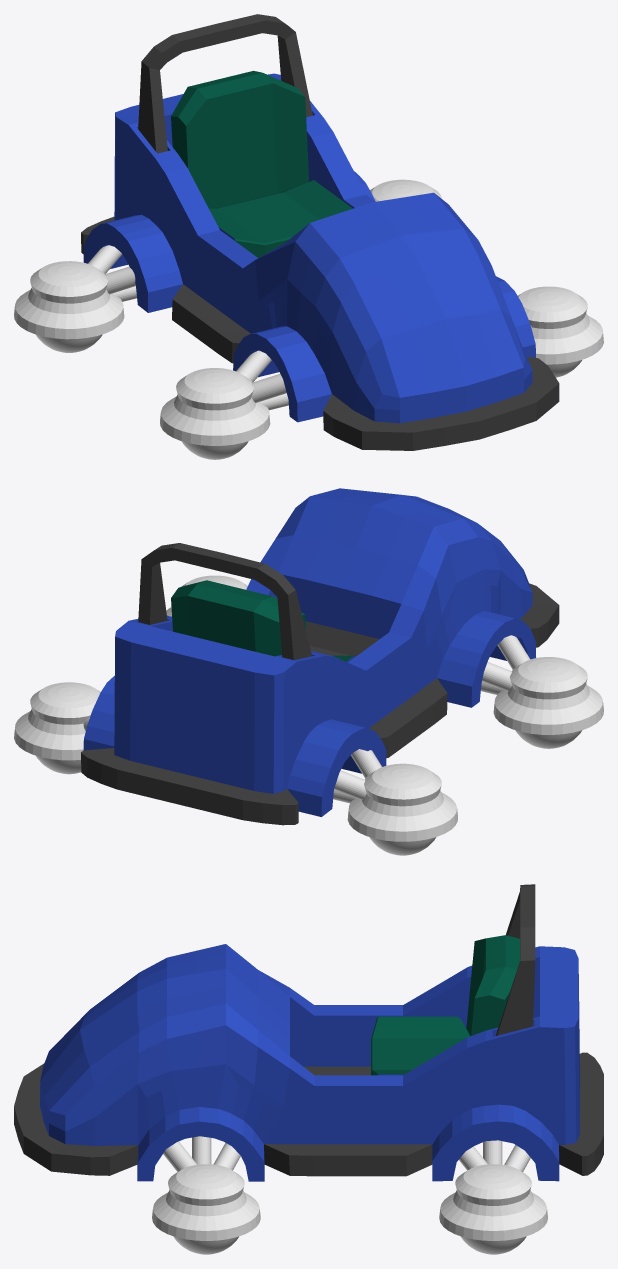
File: car.glb
3 views of the same model, one above another, from view 1: azimuth 30°, elevation 25°; view 2: azimuth 150°, elevation 25°; view 3: azimuth 270°, elevation 25° (orthographic).
Visible parts, largest first — view 1: Cube, Sphere.002, Sphere.006, Sphere.005, Sphere.001, Cylinder.007, Cylinder.008, Cylinder.010; view 2: Cube, Sphere.006, Sphere.002, Sphere.001, Cylinder.007, Cylinder.011, Cylinder.008, Cylinder.010; view 3: Cube, Sphere.001, Sphere.005, Cylinder.001, Cylinder.
Boxes of the visible parts, left/top/right/bottom form: Cube: left=81, top=14, right=559, bottom=450; Sphere.002: left=14, top=261, right=124, bottom=352; Sphere.006: left=160, top=368, right=270, bottom=459; Sphere.005: left=518, top=286, right=603, bottom=377; Sphere.001: left=370, top=179, right=441, bottom=201; Cylinder.007: left=251, top=374, right=286, bottom=402; Cylinder.008: left=236, top=350, right=271, bottom=382; Cylinder.010: left=104, top=266, right=135, bottom=294; Cube: left=81, top=488, right=559, bottom=825; Sphere.006: left=493, top=657, right=603, bottom=748; Sphere.002: left=347, top=763, right=457, bottom=855; Sphere.001: left=14, top=682, right=100, bottom=774; Cylinder.007: left=497, top=635, right=530, bottom=669; Cylinder.011: left=334, top=770, right=366, bottom=800; Cylinder.008: left=482, top=662, right=511, bottom=691; Cylinder.010: left=351, top=749, right=381, bottom=778; Cube: left=14, top=884, right=603, bottom=1181; Sphere.001: left=439, top=1164, right=547, bottom=1254; Sphere.005: left=152, top=1164, right=260, bottom=1254; Cylinder.001: left=163, top=1141, right=197, bottom=1171; Cylinder: left=192, top=1136, right=211, bottom=1164.
Size of the model in its own units: 1.84 by 1.1 by 2.22.
